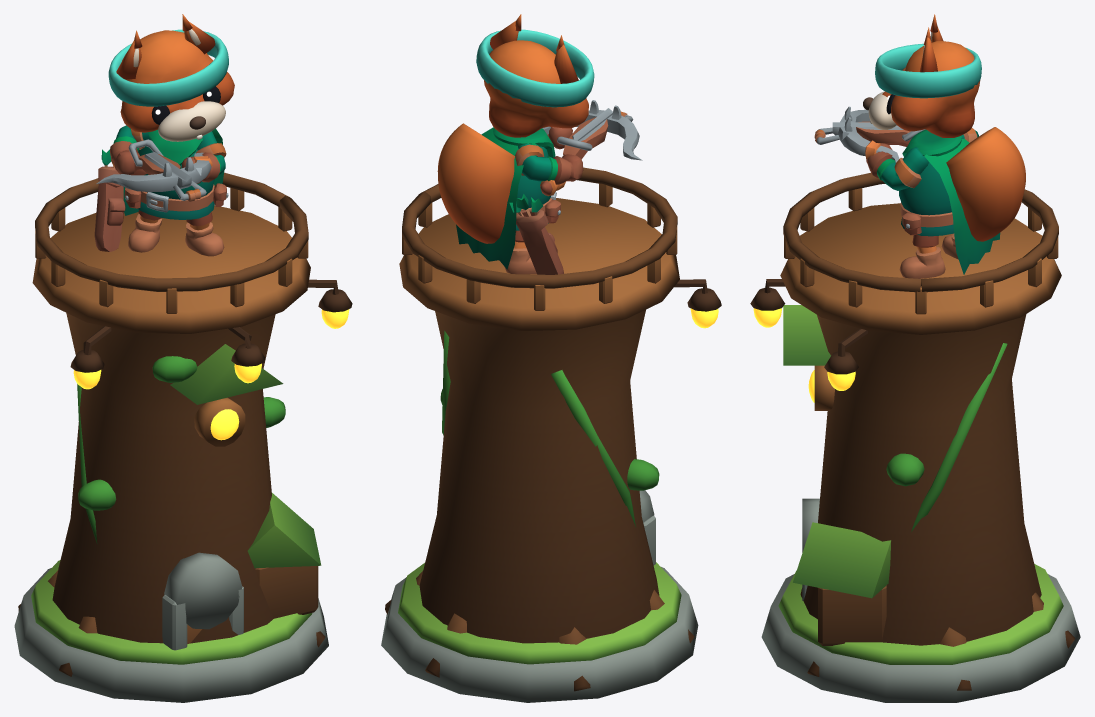
Rendered from tower_squirrel_t2.glb.
3 views of the same model, side by side, from view 1: azimuth 30°, elevation 25°; view 2: azimuth 150°, elevation 25°; view 3: azimuth 270°, elevation 25° (orthographic).
Visible parts, largest first — view 1: CustomTowerBase_squirrel_t2, SqHead, Rogue_Body, NativeHat_SqBand, 2H_Crossbow, quiver, SqMuzzle, Rogue_LegLeft, Rogue_ArmRight, Rogue_LegRight, Rogue_ArmLeft; view 2: CustomTowerBase_squirrel_t2, SqFluffyTail, SqHead, NativeHat_SqBand, 2H_Crossbow, quiver, Rogue_Cape, Rogue_ArmRight, Rogue_Body, Rogue_LegRight, EarOuter; view 3: CustomTowerBase_squirrel_t2, SqFluffyTail, SqHead, Rogue_Body, NativeHat_SqBand, 2H_Crossbow, Rogue_Cape, Rogue_ArmLeft, Rogue_LegLeft, SqMuzzle.
Part boxes in pixels (<box>): CustomTowerBase_squirrel_t2: <box>14,172,352,702</box>; SqHead: <box>120,30,234,132</box>; Rogue_Body: <box>124,129,228,219</box>; NativeHat_SqBand: <box>108,29,228,106</box>; 2H_Crossbow: <box>96,139,212,201</box>; quiver: <box>94,149,125,251</box>; SqMuzzle: <box>158,101,225,141</box>; Rogue_LegLeft: <box>185,212,224,256</box>; Rogue_ArmRight: <box>110,125,150,174</box>; Rogue_LegRight: <box>128,210,162,252</box>; Rogue_ArmLeft: <box>181,131,226,183</box>; CustomTowerBase_squirrel_t2: <box>381,167,721,702</box>; SqFluffyTail: <box>437,123,516,243</box>; SqHead: <box>484,40,588,137</box>; NativeHat_SqBand: <box>476,29,594,107</box>; 2H_Crossbow: <box>540,100,642,196</box>; quiver: <box>509,194,563,274</box>; Rogue_Cape: <box>456,127,536,269</box>; Rogue_ArmRight: <box>515,143,583,184</box>; Rogue_Body: <box>493,128,560,230</box>; Rogue_LegRight: <box>504,230,536,274</box>; EarOuter: <box>554,44,578,83</box>; CustomTowerBase_squirrel_t2: <box>750,172,1080,702</box>; SqFluffyTail: <box>946,127,1025,241</box>; SqHead: <box>882,41,980,137</box>; Rogue_Body: <box>899,129,961,236</box>; NativeHat_SqBand: <box>875,43,981,98</box>; 2H_Crossbow: <box>814,106,925,163</box>; Rogue_Cape: <box>924,139,1000,274</box>; Rogue_ArmLeft: <box>866,143,928,190</box>; Rogue_LegLeft: <box>899,234,945,278</box>; SqMuzzle: <box>868,91,896,129</box>.
Size of the model in its own units: 1.02 by 2.18 by 1.06.
6 materials, 4 textured.
